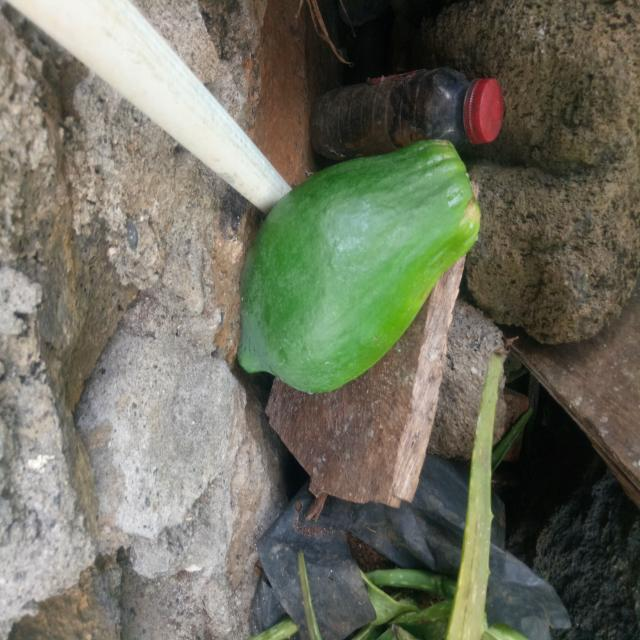Pepaya unrippen: (227, 140, 483, 385)
